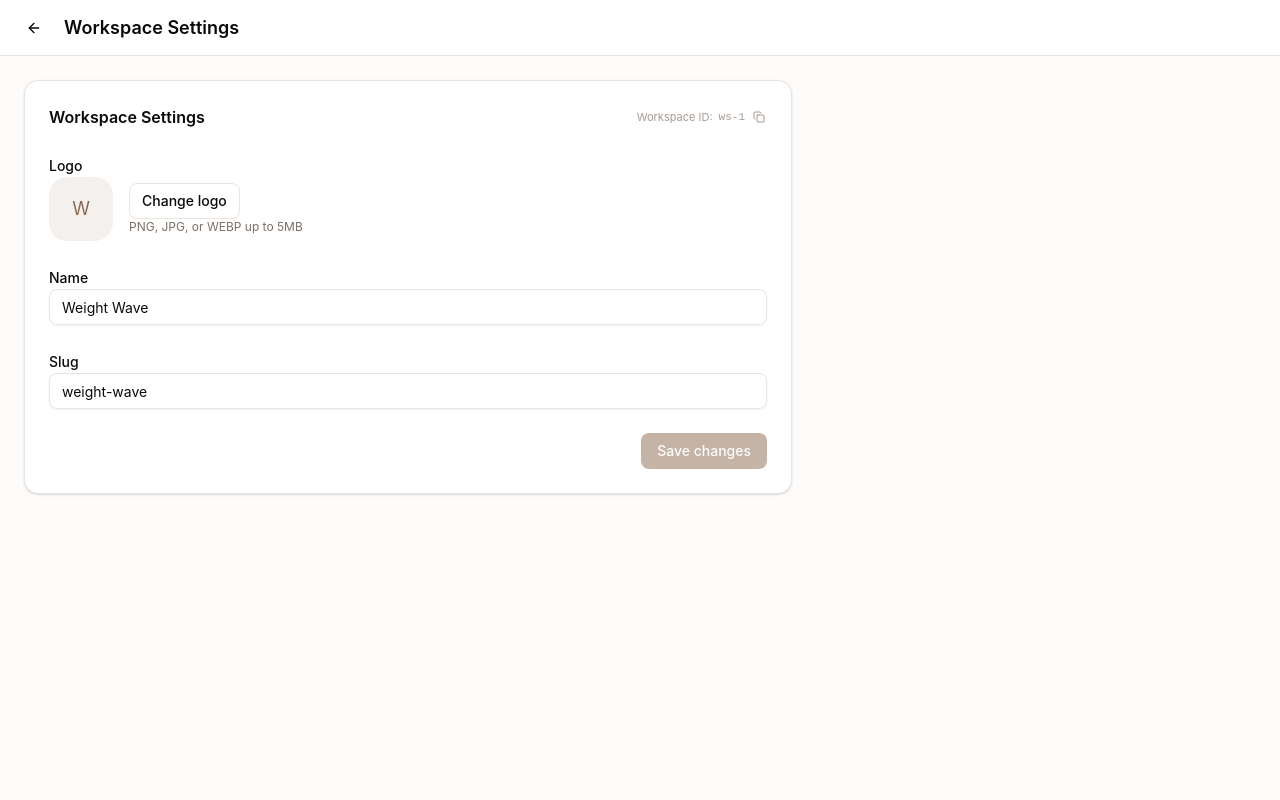
it: WorkspaceSettingsContent › shows slug-taken error on 409 conflict
Replace the text in the field labelled "Slug" with "taken-slug". click: point(408, 391)
box: [49, 373, 767, 409]
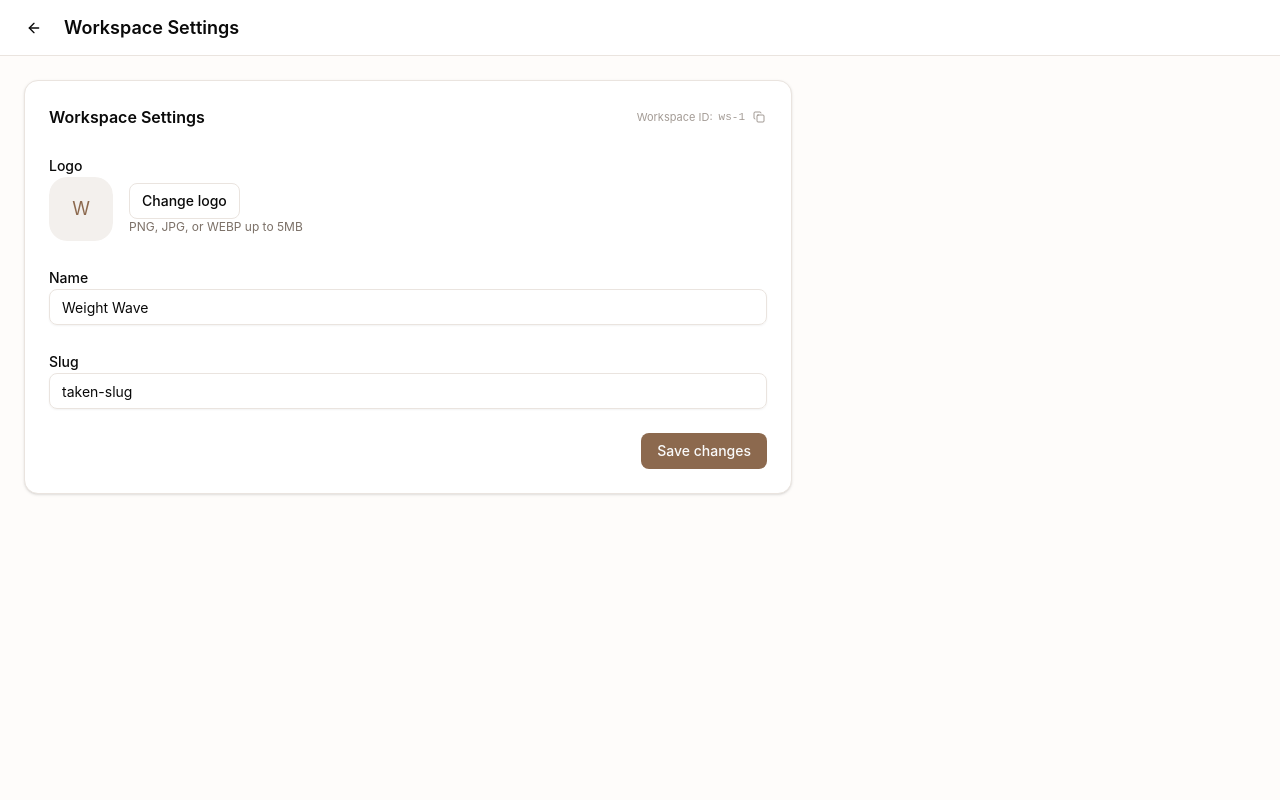
Click the button "Save changes". click: point(704, 451)
box: [641, 433, 767, 469]
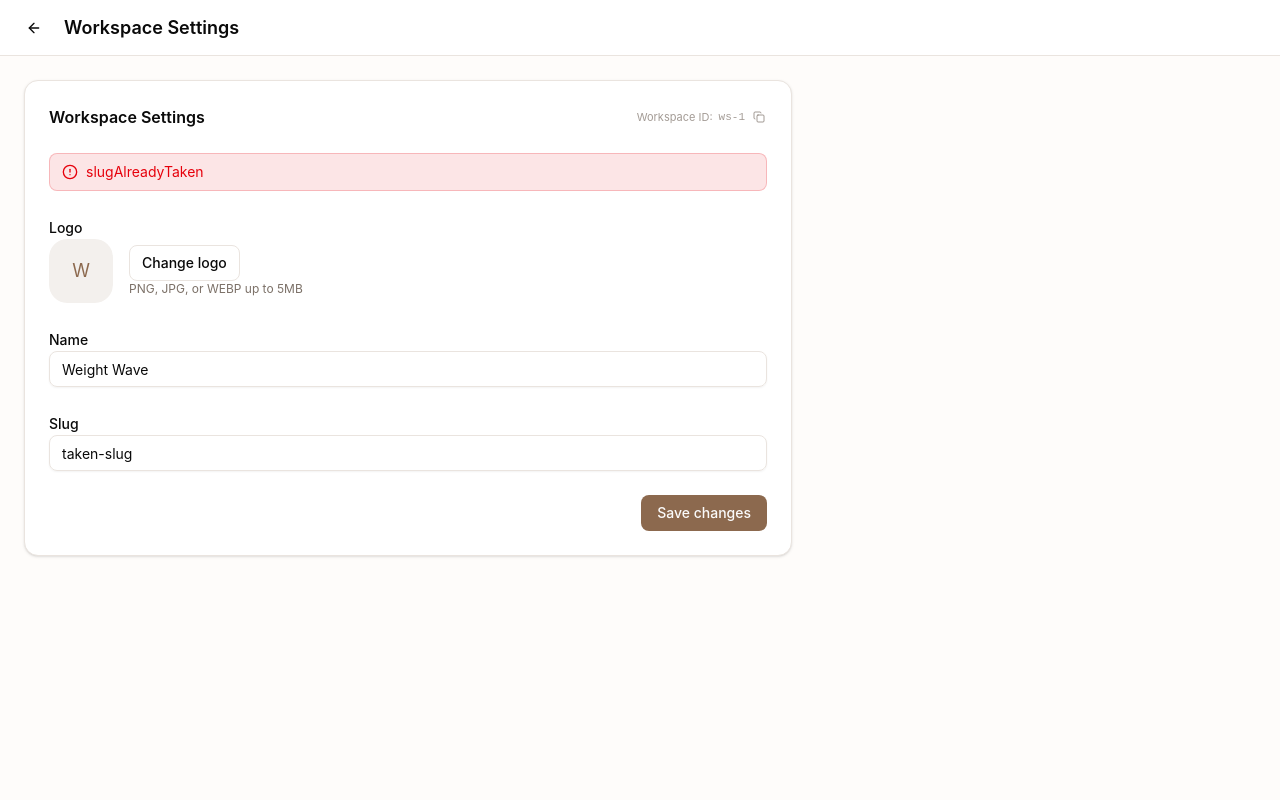
Check: the text "slugAlreadyTaken" is shown, box [49, 153, 767, 191]
